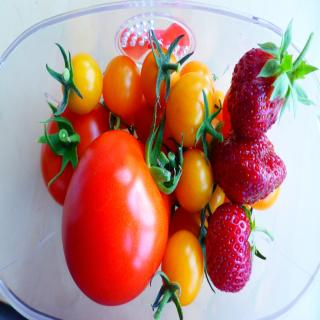tomato: (60, 128, 172, 306), (37, 102, 113, 208), (164, 72, 225, 162), (149, 228, 203, 319), (138, 30, 194, 111), (44, 39, 102, 112), (170, 207, 216, 294), (100, 54, 142, 130), (175, 147, 214, 212), (180, 57, 218, 91)
